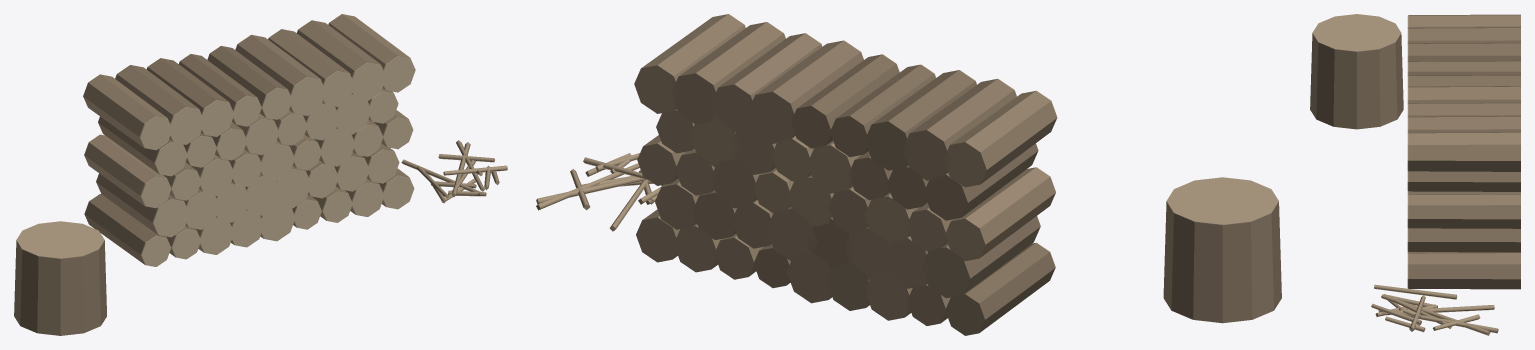
File: cabin_woodpile_a.glb
3 views of the same model, side by side, from view 1: azimuth 30°, elevation 25°; view 2: azimuth 150°, elevation 25°; view 3: azimuth 270°, elevation 25° (orthographic). The views are drawn at different scales.
Parts seen in each view (by area): view 1: body; view 2: body; view 3: body.
Boxes of the visible parts, <box> form: body: <box>14,14,507,335</box>; body: <box>536,14,1281,335</box>; body: <box>1310,14,1520,335</box>.
Bounding box in the file's own units: 2.56 × 0.7535 × 0.9.
